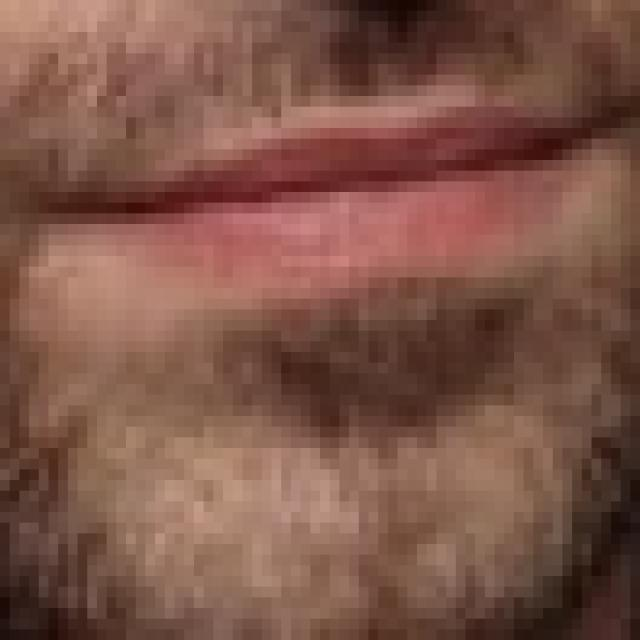closed-mouth: (9, 74, 630, 310)
